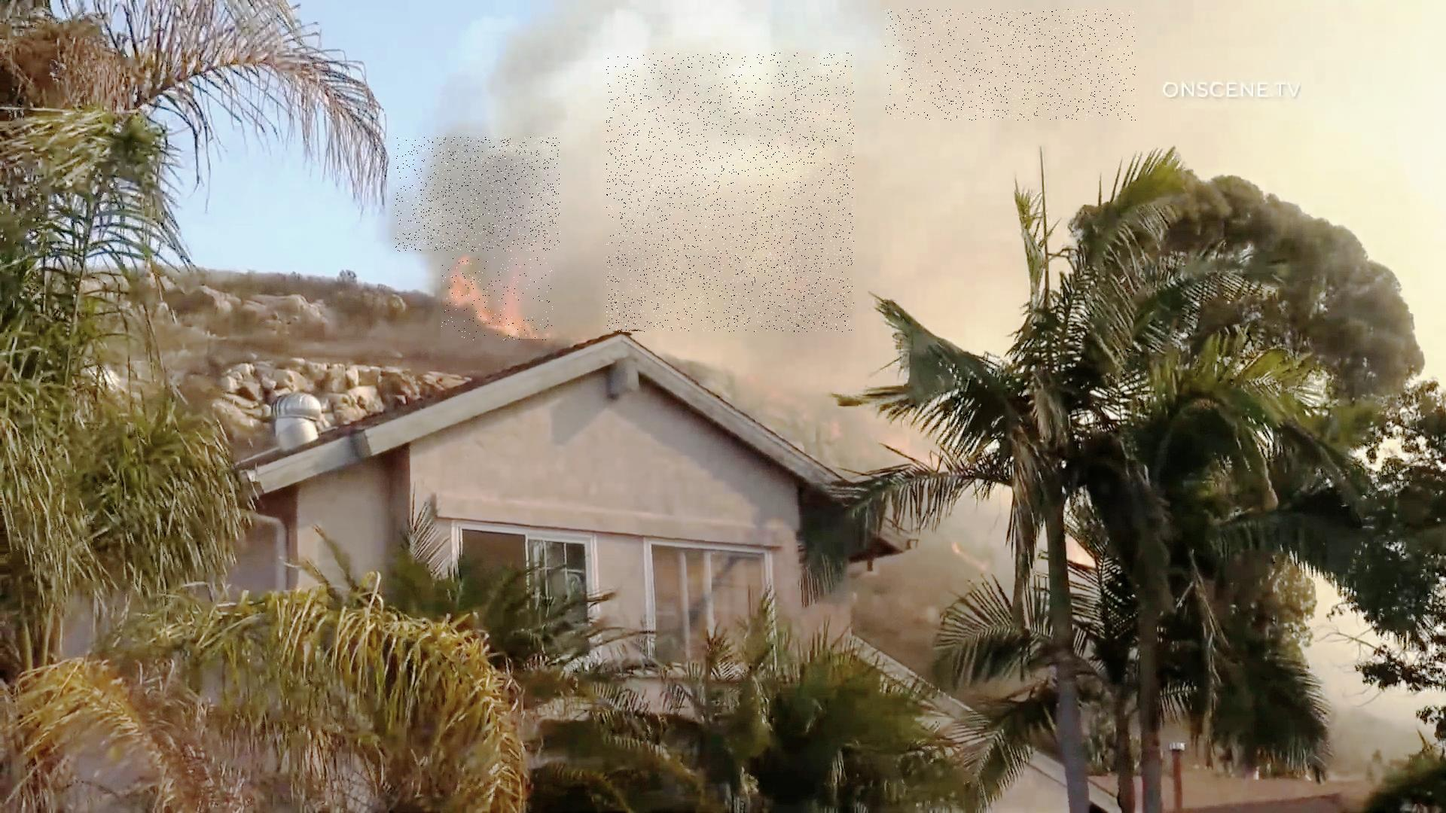fire: (441, 258, 553, 341)
smoke: (607, 53, 855, 332), (885, 10, 1136, 121), (396, 138, 561, 252)
